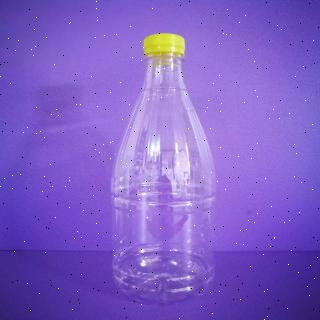Plastic-bottle: (108, 28, 222, 305)
